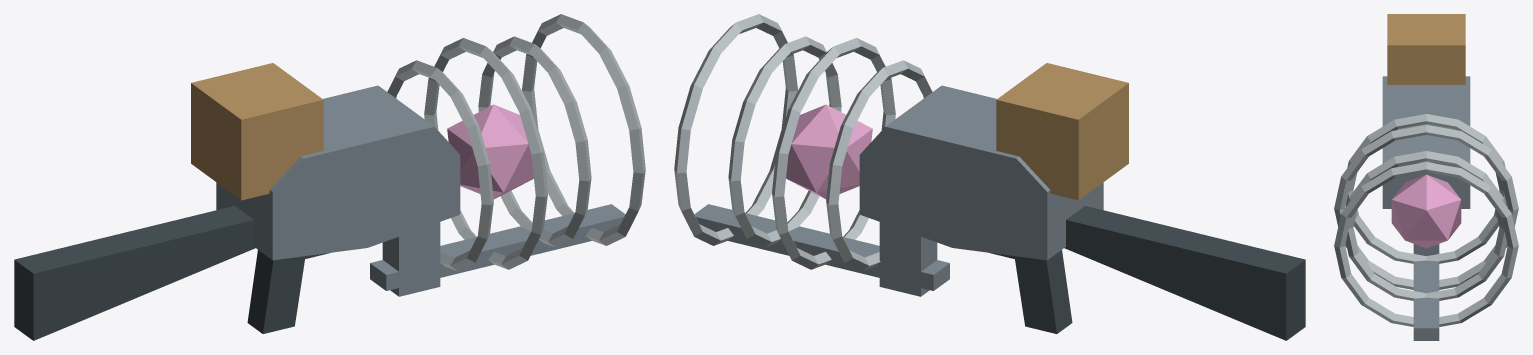
Rendered from w32-veilbreaker.glb.
3 views of the same model, side by side, from view 1: azimuth 30°, elevation 25°; view 2: azimuth 150°, elevation 25°; view 3: azimuth 270°, elevation 25° (orthographic). The views are drawn at different scales.
Parts seen in each view (by area): view 1: w32-veilbreaker__receiver, w32-veilbreaker__stock, w32-veilbreaker__reactor_pack, w32-veilbreaker__field_ring_3, w32-veilbreaker__field_ring_1, w32-veilbreaker__suspended_core, w32-veilbreaker__field_spine, w32-veilbreaker__field_ring_2, w32-veilbreaker__field_ring_0, w32-veilbreaker__grip, w32-veilbreaker__field_spine_mount; view 2: w32-veilbreaker__receiver, w32-veilbreaker__stock, w32-veilbreaker__reactor_pack, w32-veilbreaker__field_ring_3, w32-veilbreaker__field_ring_1, w32-veilbreaker__suspended_core, w32-veilbreaker__field_ring_2, w32-veilbreaker__field_spine, w32-veilbreaker__field_ring_0, w32-veilbreaker__grip, w32-veilbreaker__field_spine_mount; view 3: w32-veilbreaker__receiver, w32-veilbreaker__reactor_pack, w32-veilbreaker__field_ring_3, w32-veilbreaker__field_ring_1, w32-veilbreaker__field_ring_2, w32-veilbreaker__suspended_core, w32-veilbreaker__field_ring_0, w32-veilbreaker__field_spine, w32-veilbreaker__field_spine_mount.
Part boxes in pixels (<box>): w32-veilbreaker__receiver: <box>216,85,460,260</box>; w32-veilbreaker__stock: <box>14,206,255,340</box>; w32-veilbreaker__reactor_pack: <box>191,63,323,200</box>; w32-veilbreaker__field_ring_3: <box>522,14,645,245</box>; w32-veilbreaker__field_ring_1: <box>424,38,547,269</box>; w32-veilbreaker__suspended_core: <box>447,104,533,199</box>; w32-veilbreaker__field_spine: <box>370,204,625,290</box>; w32-veilbreaker__field_ring_2: <box>478,36,591,247</box>; w32-veilbreaker__field_ring_0: <box>387,60,493,271</box>; w32-veilbreaker__grip: <box>247,250,305,333</box>; w32-veilbreaker__field_spine_mount: <box>382,222,440,296</box>; w32-veilbreaker__receiver: <box>859,85,1103,260</box>; w32-veilbreaker__stock: <box>1064,206,1305,340</box>; w32-veilbreaker__reactor_pack: <box>996,63,1128,200</box>; w32-veilbreaker__field_ring_3: <box>674,14,797,245</box>; w32-veilbreaker__field_ring_1: <box>772,38,895,269</box>; w32-veilbreaker__suspended_core: <box>786,104,872,199</box>; w32-veilbreaker__field_ring_2: <box>728,36,841,247</box>; w32-veilbreaker__field_spine: <box>694,204,949,290</box>; w32-veilbreaker__field_ring_0: <box>826,60,932,271</box>; w32-veilbreaker__grip: <box>1014,250,1072,333</box>; w32-veilbreaker__field_spine_mount: <box>879,222,937,296</box>; w32-veilbreaker__receiver: <box>1382,76,1470,208</box>; w32-veilbreaker__reactor_pack: <box>1387,14,1465,84</box>; w32-veilbreaker__field_ring_3: <box>1334,162,1518,326</box>; w32-veilbreaker__field_ring_1: <box>1334,125,1518,289</box>; w32-veilbreaker__field_ring_2: <box>1346,151,1506,300</box>; w32-veilbreaker__suspended_core: <box>1391,174,1461,248</box>; w32-veilbreaker__field_ring_0: <box>1346,114,1506,263</box>; w32-veilbreaker__field_spine: <box>1413,260,1439,340</box>; w32-veilbreaker__field_spine_mount: <box>1413,244,1439,255</box>.
Size of the model in its own units: 1.16 by 0.44 by 0.4.
